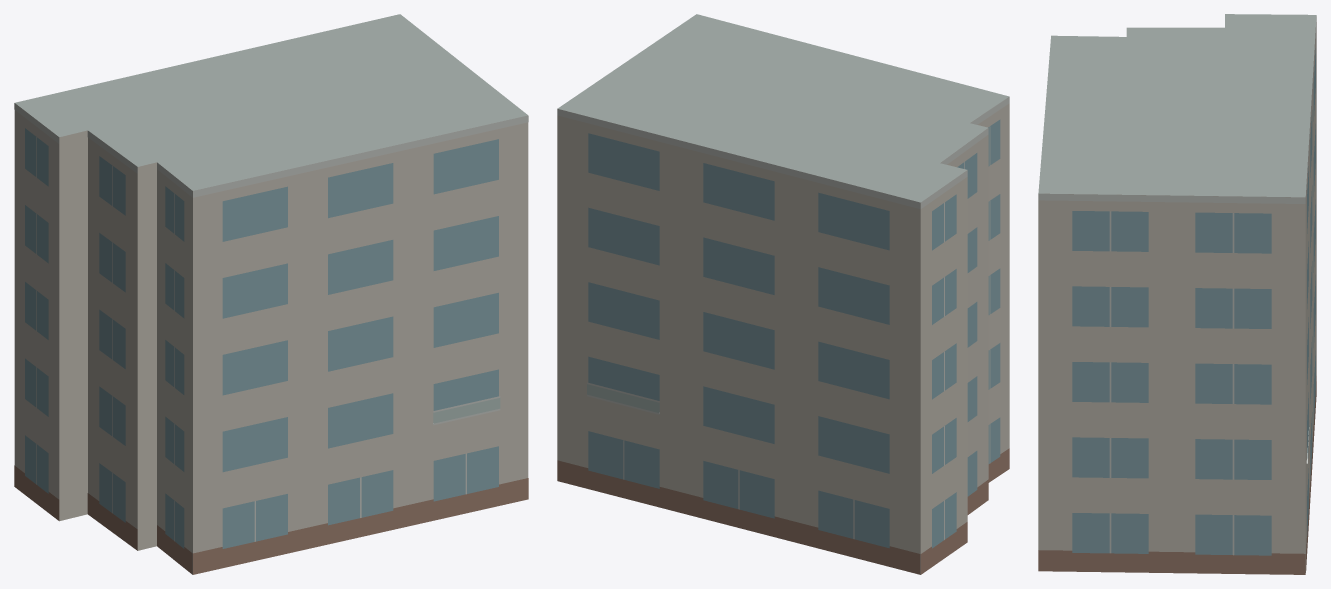
The model's file is survey-upis-32564984.glb.
3 renders of one model, left to right at view 1: azimuth 30°, elevation 25°; view 2: azimuth 150°, elevation 25°; view 3: azimuth 270°, elevation 25°, orthographic. The views are drawn at different scales.
Parts seen in each view (by area): view 1: survey-upis-32564984.tmp; view 2: survey-upis-32564984.tmp; view 3: survey-upis-32564984.tmp.
Boxes of the visible parts, x1,y1,x2,y2 form: survey-upis-32564984.tmp: (14,14,528,574); survey-upis-32564984.tmp: (557,14,1009,574); survey-upis-32564984.tmp: (1038,14,1316,574).
Size of the model in its own units: 14.17 by 13.6 by 9.09.
